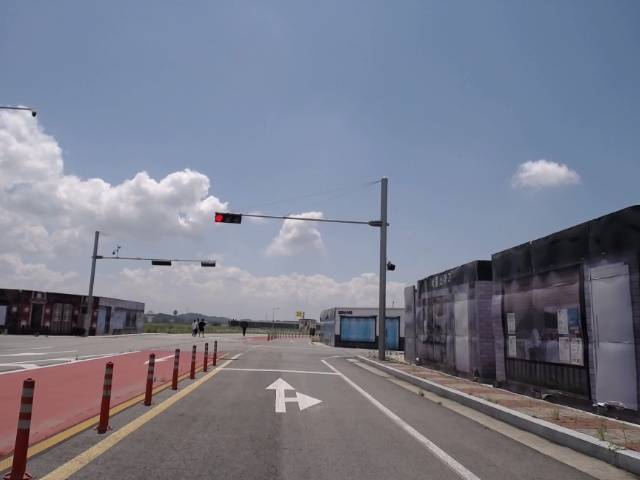red_3: (212, 210, 243, 225)
